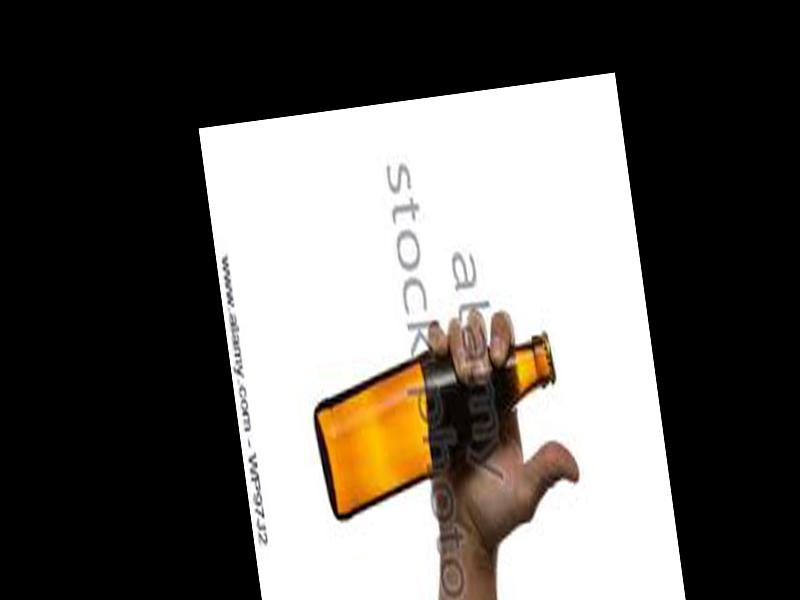Beer: (307, 328, 568, 524)
